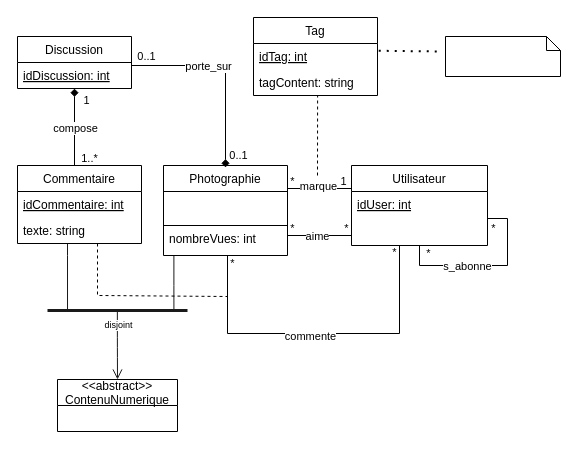
This 578x449 diagram has some shape labels left out. Here are the shapes that lost their labels. From the top down, the centre of each, then its label:
At (x=502, y=56): "Un utilisateur ne peut marquer que ses propres photos".
At (x=225, y=208): "idPhoto: int".
